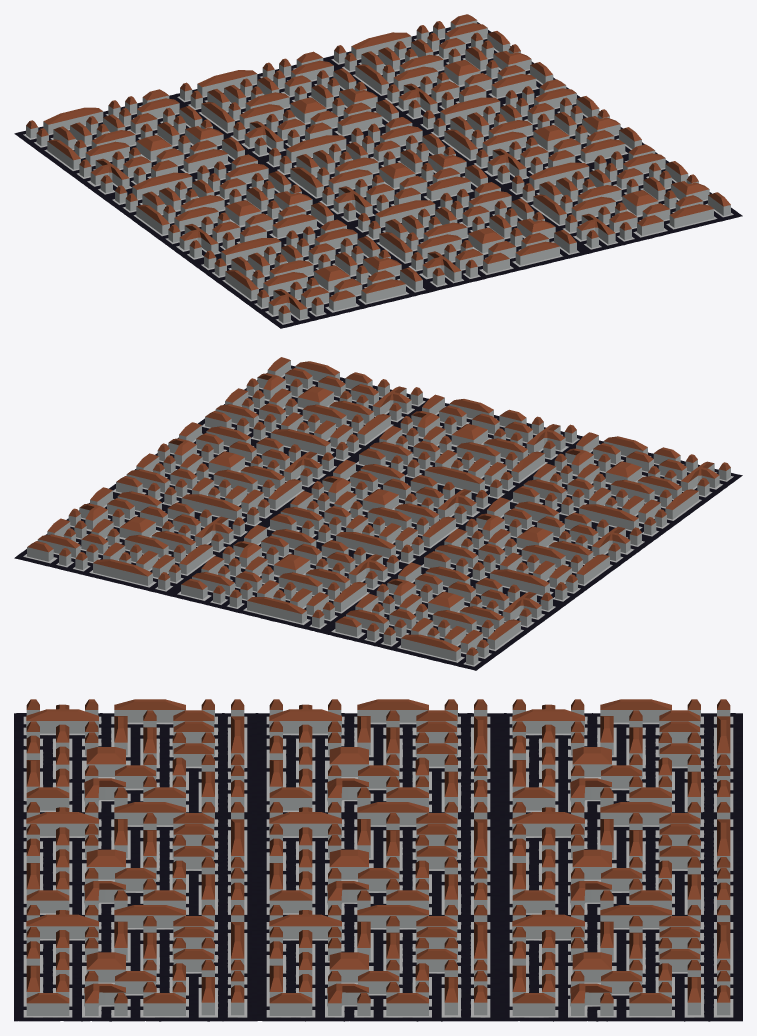
File: City.fbx
3 renders of one model, top to bottom at view 1: azimuth 30°, elevation 25°; view 2: azimuth 150°, elevation 25°; view 3: azimuth 270°, elevation 25°, orthographic. The views are drawn at different scales.
Visible parts, largest first — view 1: Plane; view 2: Plane; view 3: Plane.
Boxes of the visible parts, x1=… form: Plane: x1=14, y1=14, x2=742, y2=328; Plane: x1=14, y1=357, x2=742, y2=670; Plane: x1=14, y1=699, x2=742, y2=1021.
Size of the model in its own units: 200000 by 6134 by 200000.
